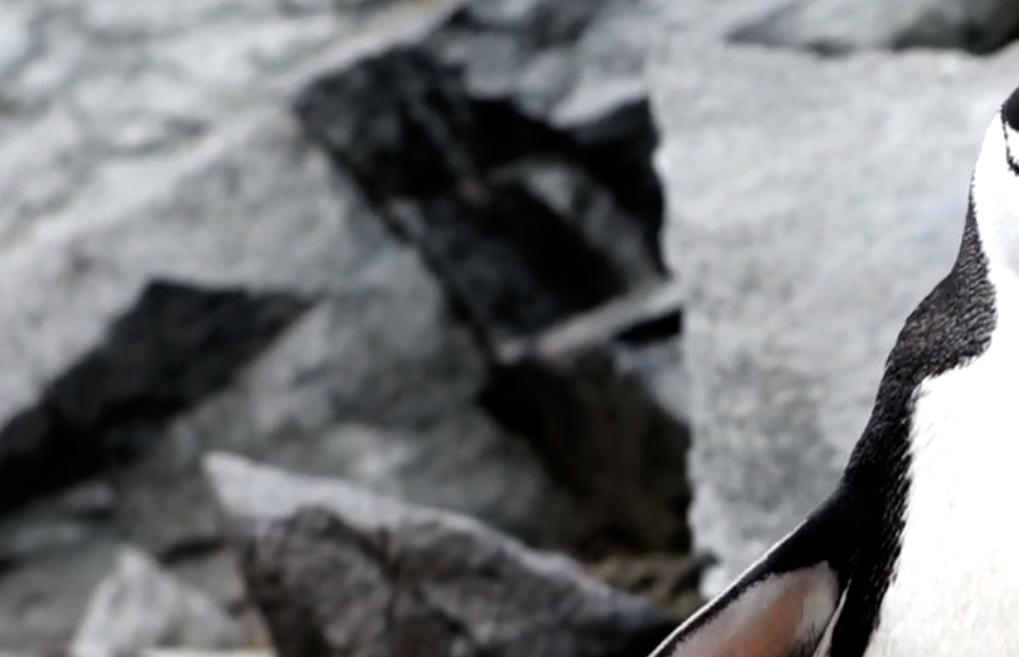Chinstrap Penguin: (414, 30, 1019, 657)
